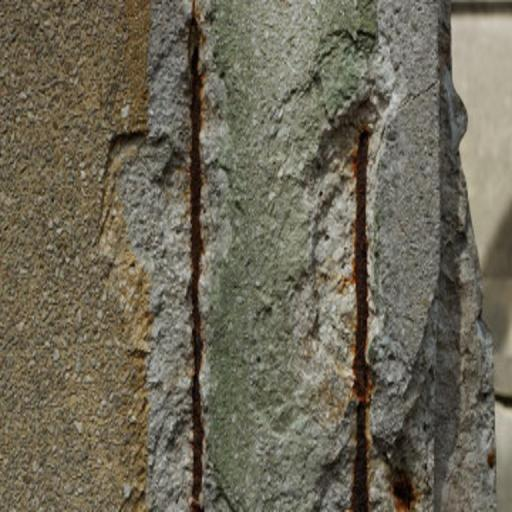spalling: (292, 23, 420, 512), (142, 10, 254, 352)
